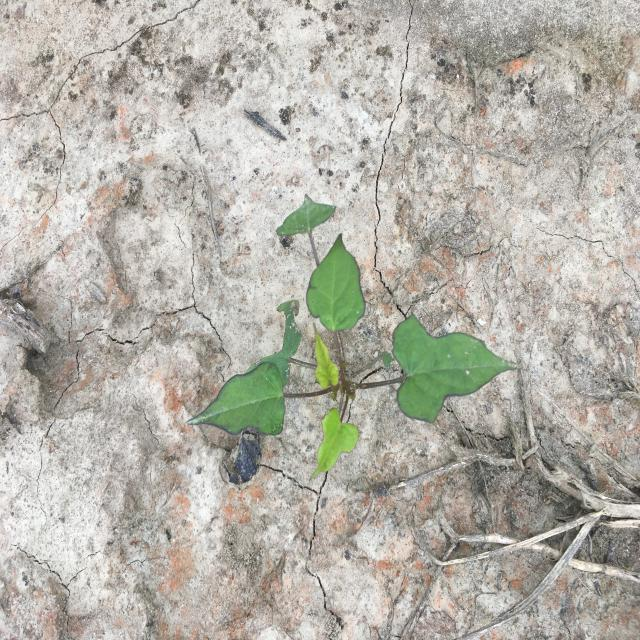MorningGlory: (186, 194, 523, 481)
